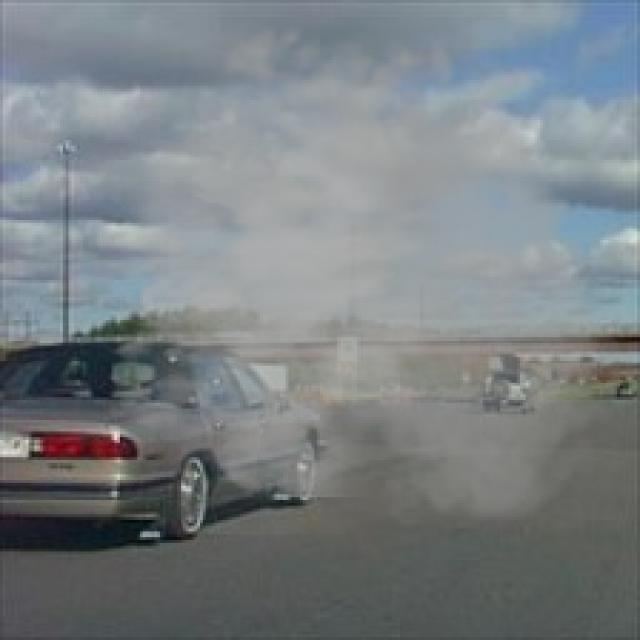Smoke: (68, 8, 638, 534)
